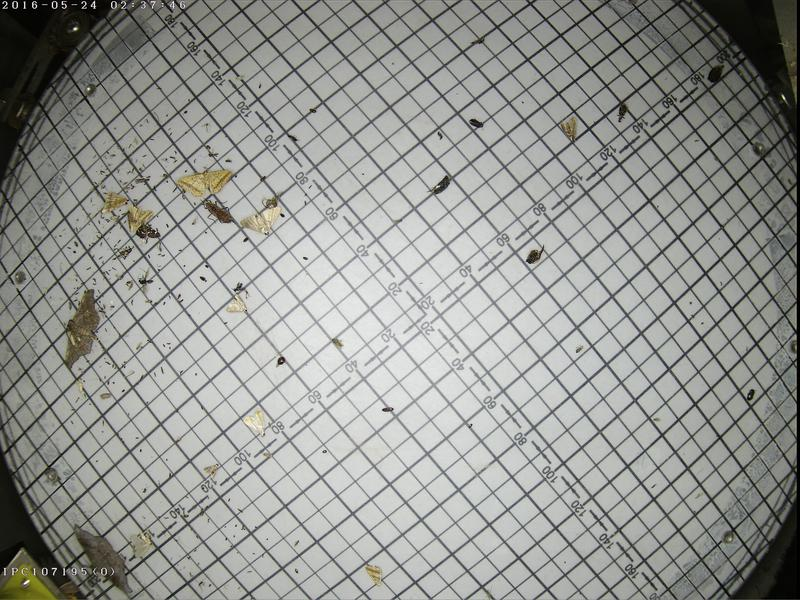Meadow borer: (240, 406, 266, 434)
Rice planthopper: (234, 72, 246, 79)
